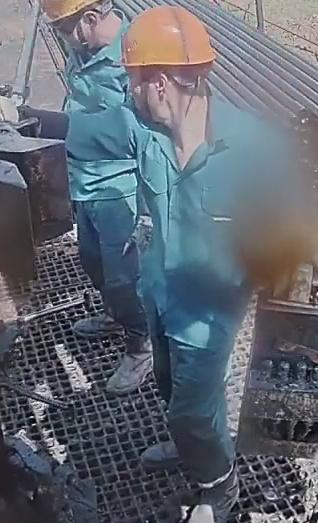gloves: (122, 215, 154, 276), (1, 85, 24, 140)
goggles: (48, 11, 95, 35)
helmet: (118, 5, 216, 67), (37, 0, 112, 24)
vest: (125, 99, 282, 352), (62, 47, 144, 205)
